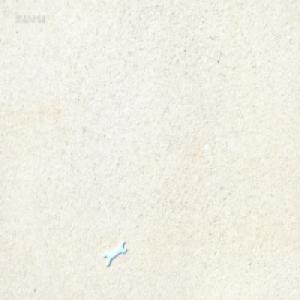Wrench: (104, 239, 127, 268)
